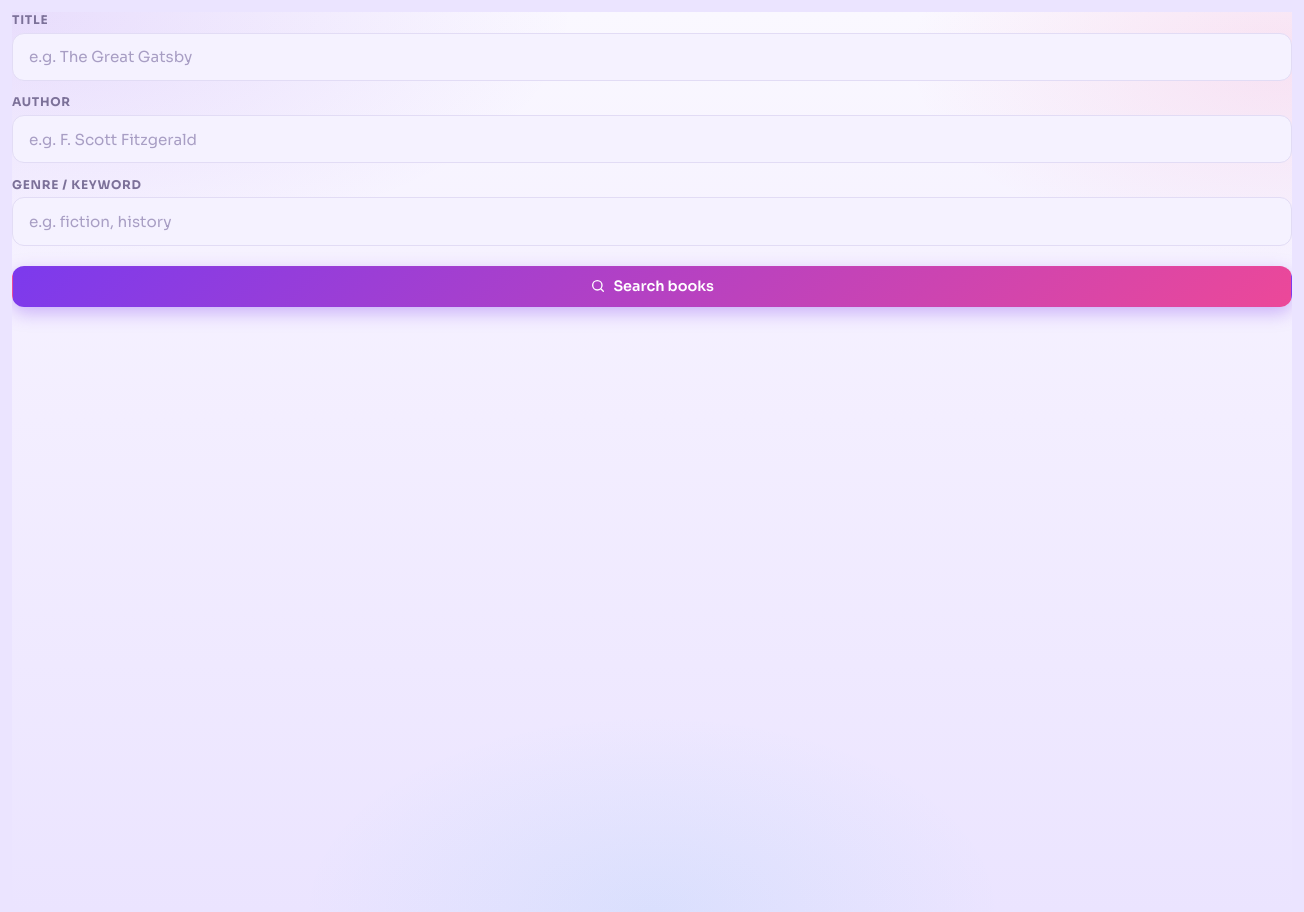
SearchForm › shows a validation error when submitted empty
This screenshot has width=1304, height=912.
What coordinates should you click on to do the following:
click the button "Search books"
I would click on:
 (652, 286)
Its box is [12,266,1292,306].
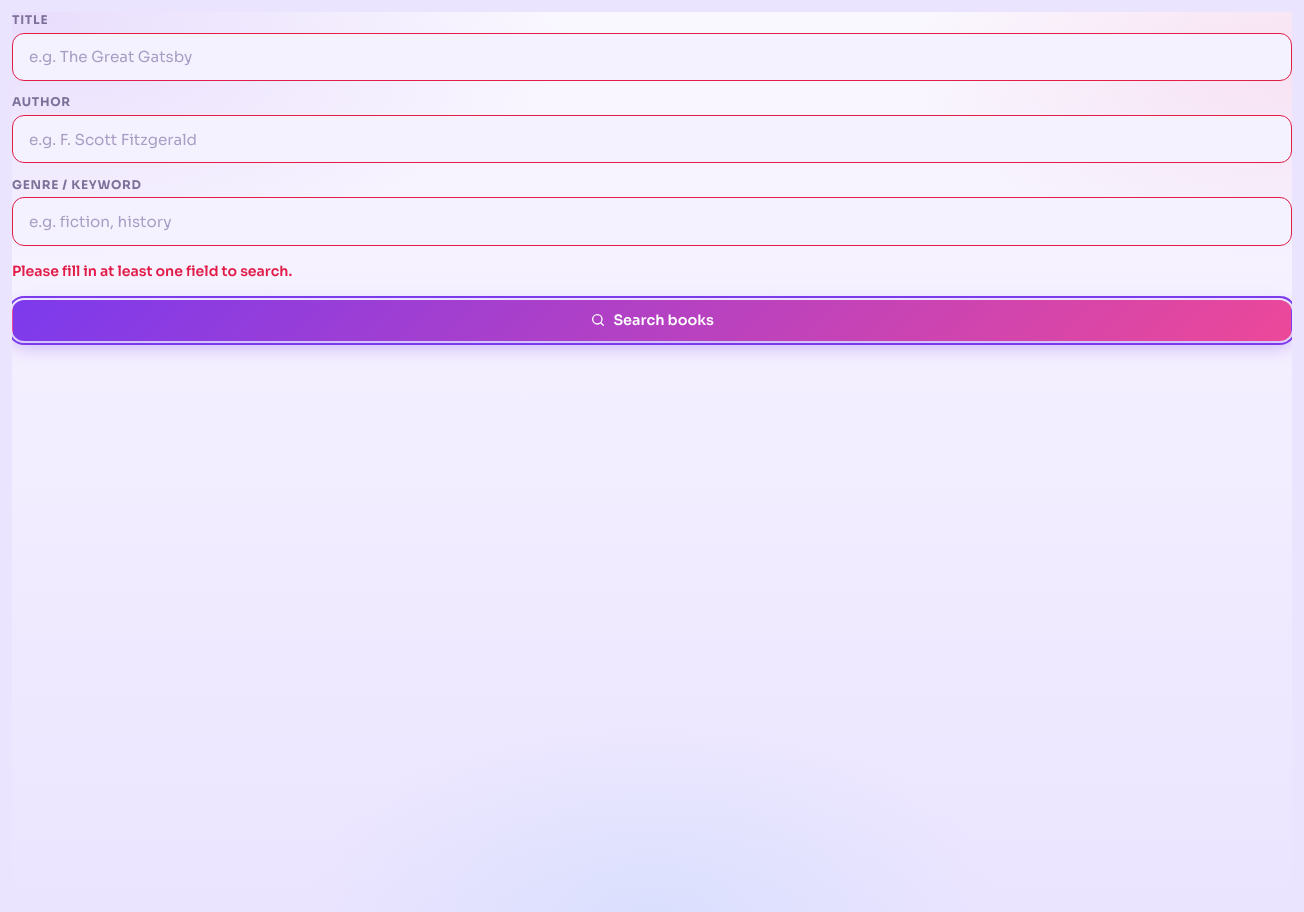
expect the message shows "Please fill in at least one field": met, box [12,262,292,280]
